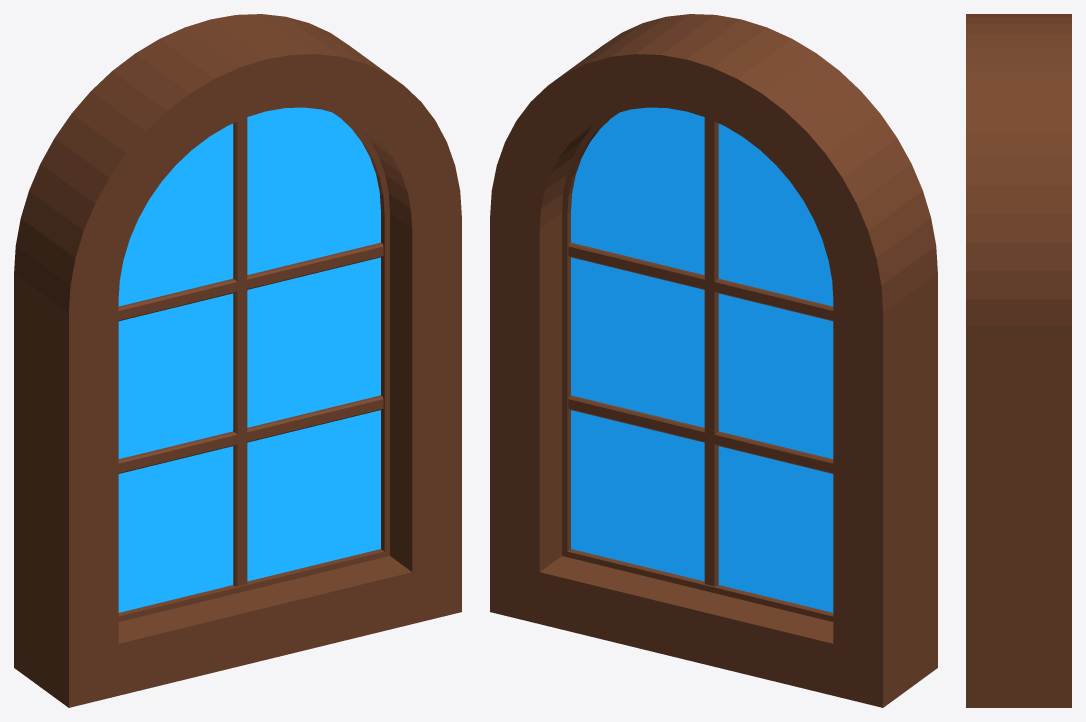
The model's file is janela_arco_2x3_madeira.glb.
3 views of the same model, side by side, from view 1: azimuth 30°, elevation 25°; view 2: azimuth 150°, elevation 25°; view 3: azimuth 270°, elevation 25° (orthographic). The views are drawn at different scales.
Visible parts, largest first — view 1: janela_arco_2x3_madeira; view 2: janela_arco_2x3_madeira; view 3: janela_arco_2x3_madeira.
Part boxes in pixels (<box>): janela_arco_2x3_madeira: <box>14,14,461,707</box>; janela_arco_2x3_madeira: <box>490,14,937,707</box>; janela_arco_2x3_madeira: <box>966,14,1071,707</box>.
Size of the model in its own units: 0.87 by 1.27 by 0.21.
